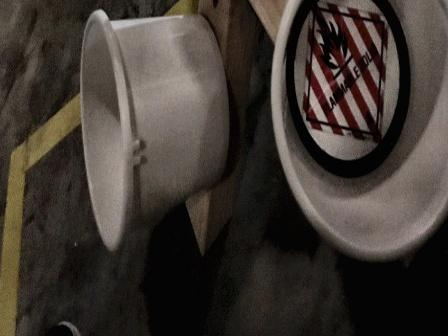flammable-solid: (302, 1, 390, 155)
